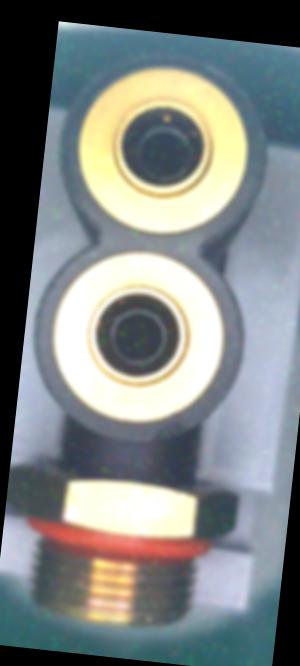bump: (149, 411, 194, 448)
